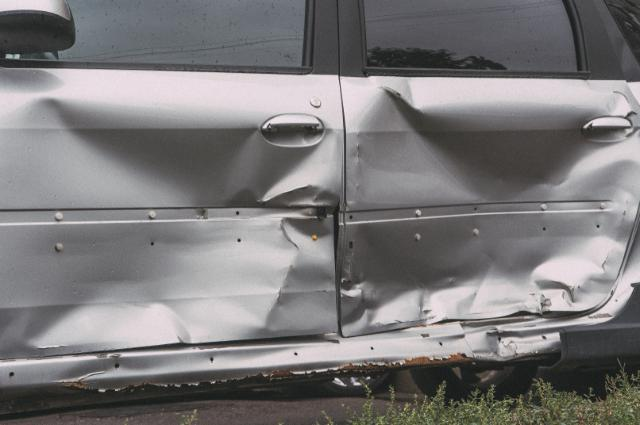Door: (0, 63, 337, 376), (342, 79, 640, 354)
